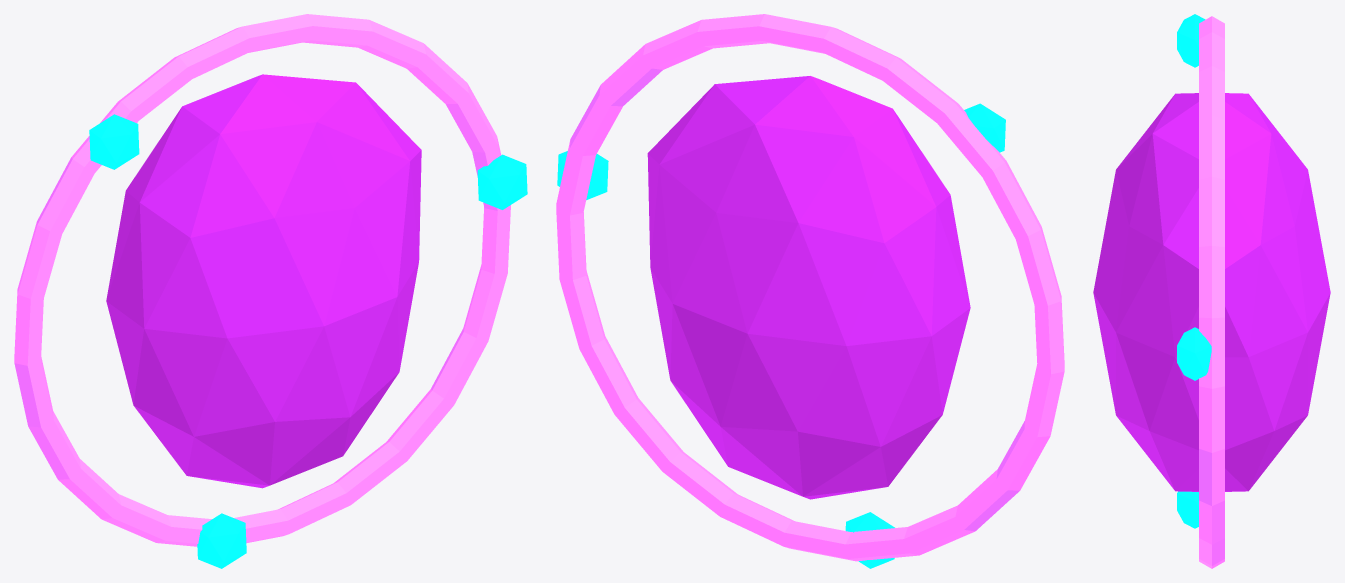
Rendered from Find_FriendShapedVoid.glb.
3 views of the same model, side by side, from view 1: azimuth 30°, elevation 25°; view 2: azimuth 150°, elevation 25°; view 3: azimuth 270°, elevation 25° (orthographic). The views are drawn at different scales.
Visible parts, largest first — view 1: Find_FriendShapedVoid, Find_FriendShapedVoid_Containment; view 2: Find_FriendShapedVoid, Find_FriendShapedVoid_Containment; view 3: Find_FriendShapedVoid, Find_FriendShapedVoid_Containment.
Boxes of the visible parts, x1,y1,x2,y2 form: Find_FriendShapedVoid: (89, 74, 527, 568); Find_FriendShapedVoid_Containment: (14, 14, 510, 546); Find_FriendShapedVoid: (557, 76, 1005, 568); Find_FriendShapedVoid_Containment: (556, 14, 1064, 561); Find_FriendShapedVoid: (1093, 14, 1330, 528); Find_FriendShapedVoid_Containment: (1199, 16, 1224, 568).
Bounding box in the file's own units: 1.32 × 1.33 × 0.56.
